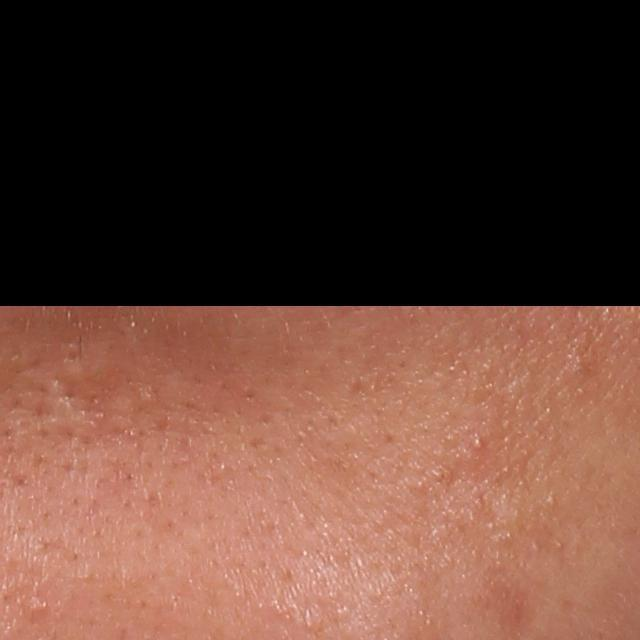comedo: (470, 434, 482, 451)
